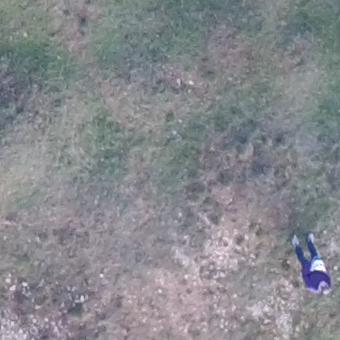human: (288, 232, 334, 296)
